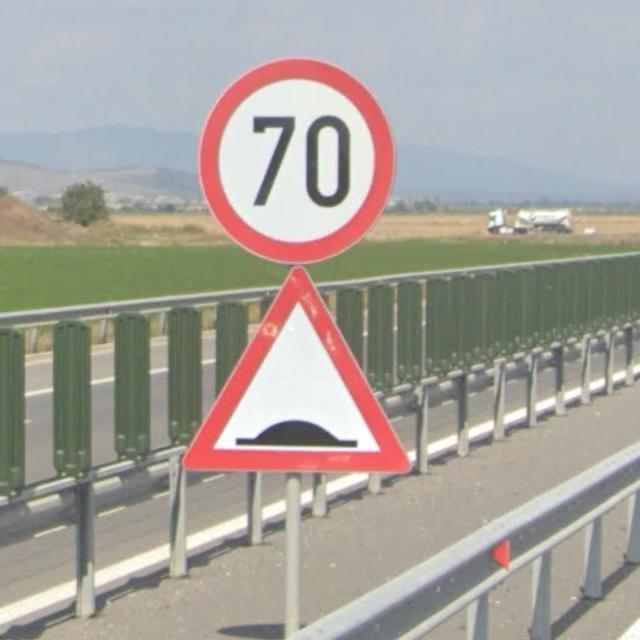forb_speed_over_70: (196, 54, 399, 264)
